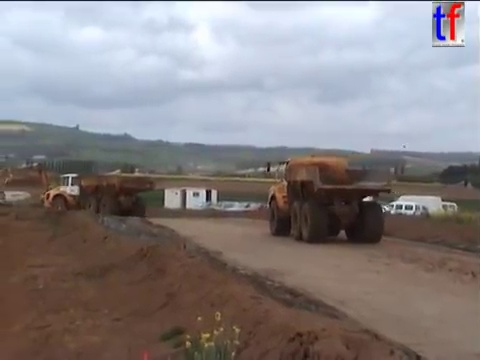excavator: (1, 163, 53, 212)
truck: (262, 153, 395, 244), (39, 171, 156, 219)
